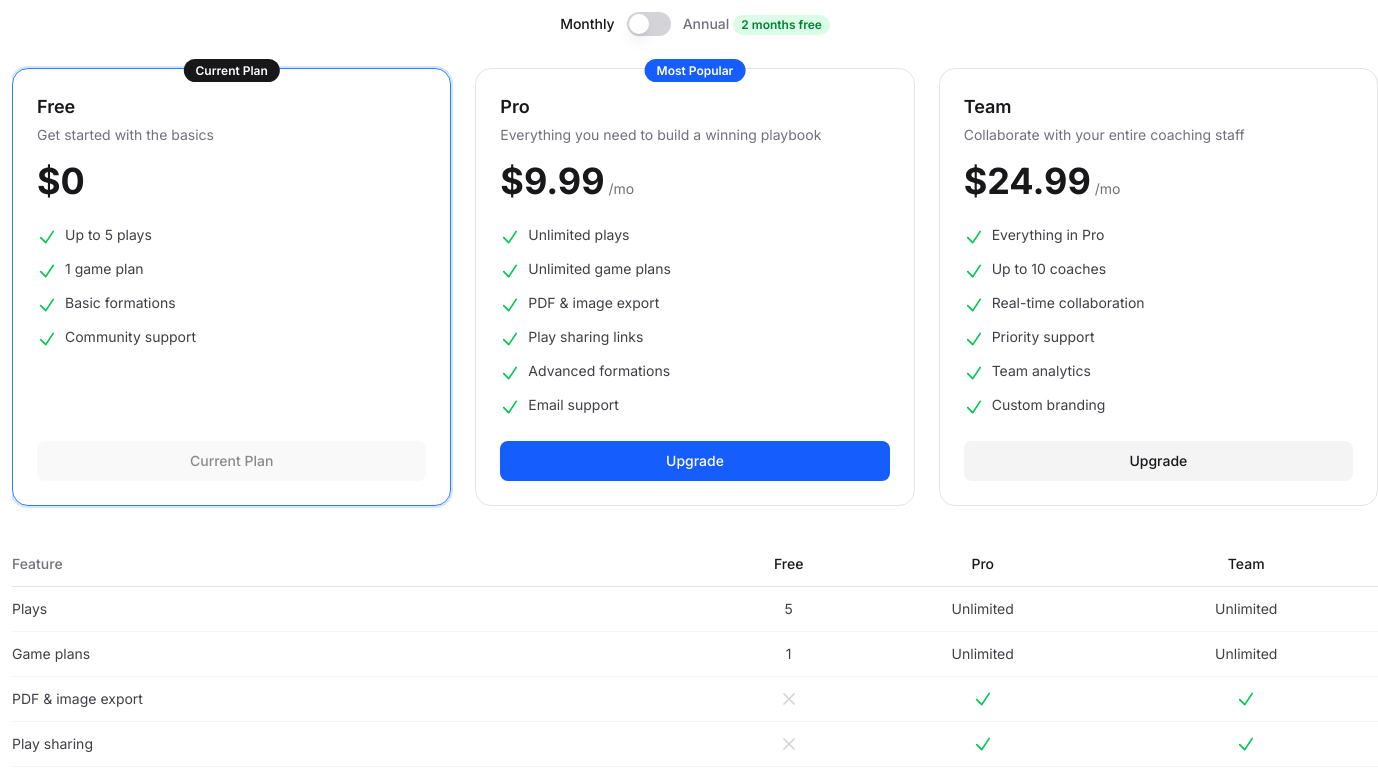
Test case: PricingTable › shows annual prices when toggle is switched
Click the switch with test id "billing-toggle": click(649, 24) x1=627 y1=12 x2=671 y2=36
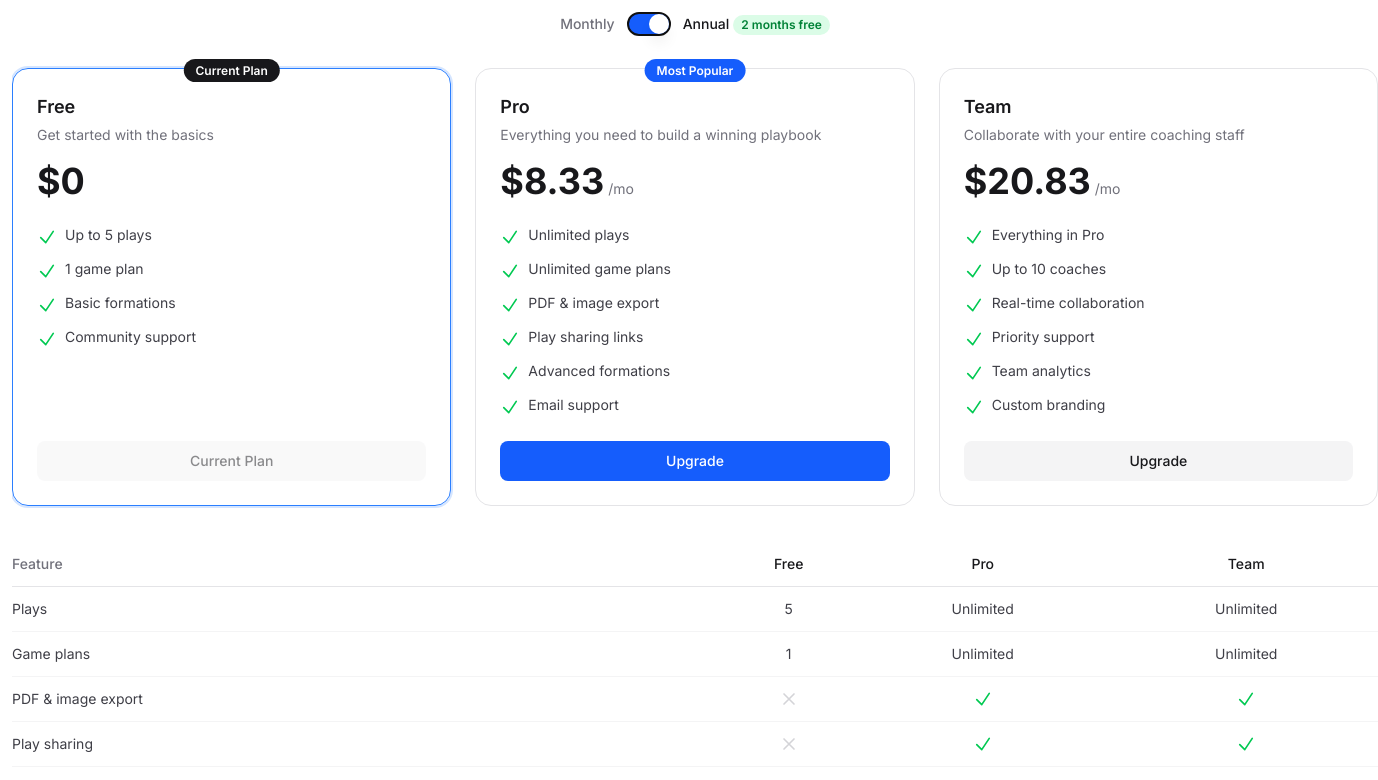
Check: the element with test id "plan-card-pro" shows "$8.33", box x1=500 y1=159 x2=604 y2=203
Check: the element with test id "plan-card-team" shows "$20.83", box x1=964 y1=159 x2=1091 y2=203
